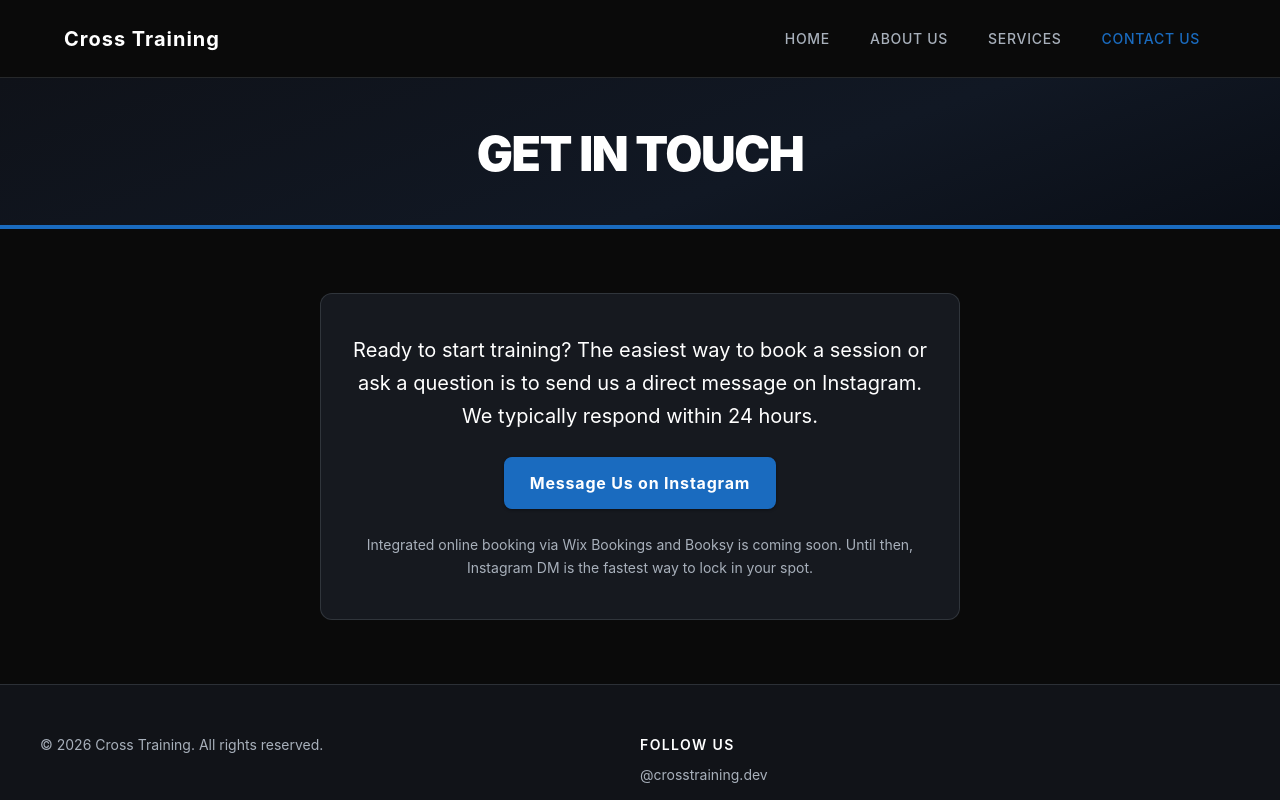
Test: App routing — integration › navigates back to the Home page when the "Home" nav link is clicked
Navigate away first
Step 1. Click the link "Services" → (1025, 38), box [988,30,1062,47]
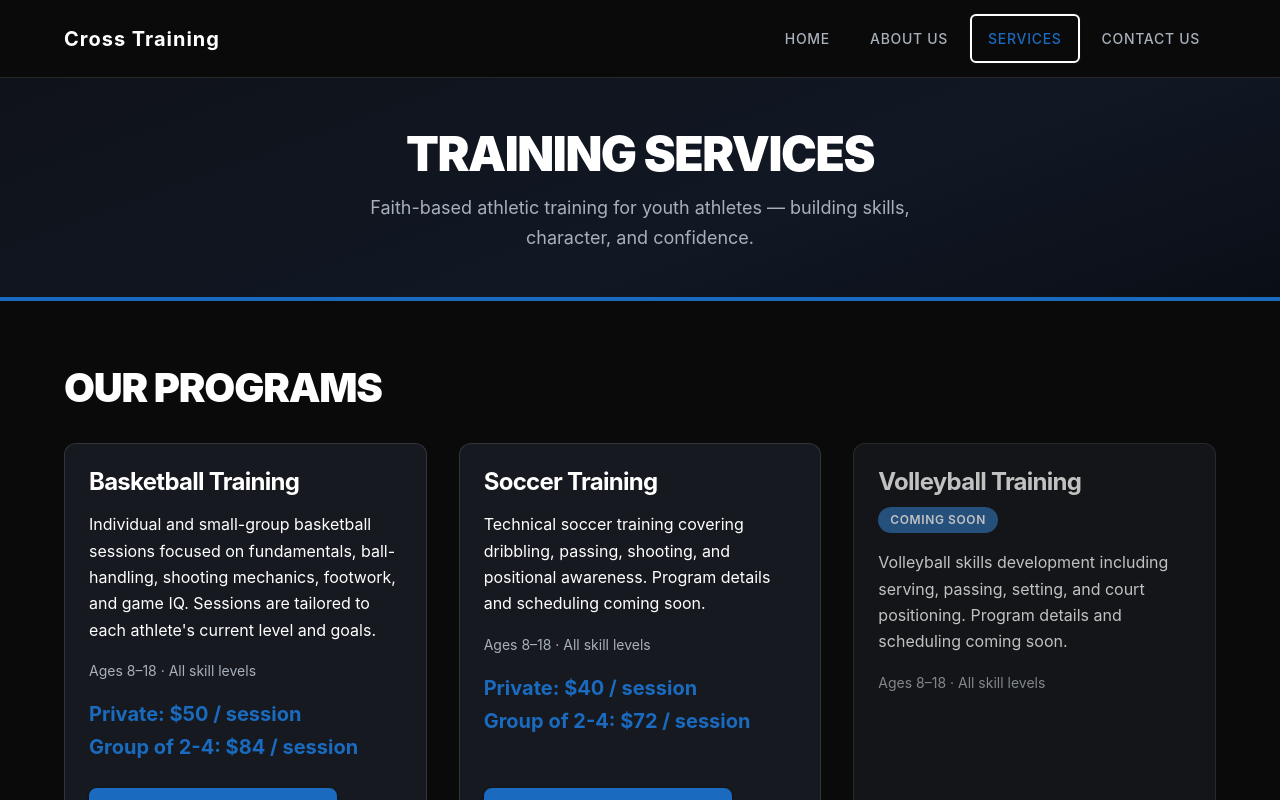
Now the heading "Training Services" is shown, box [406,124,874,183]
Navigate back home
Step 2. Click the link "Home" → (807, 38), box [785,30,830,47]
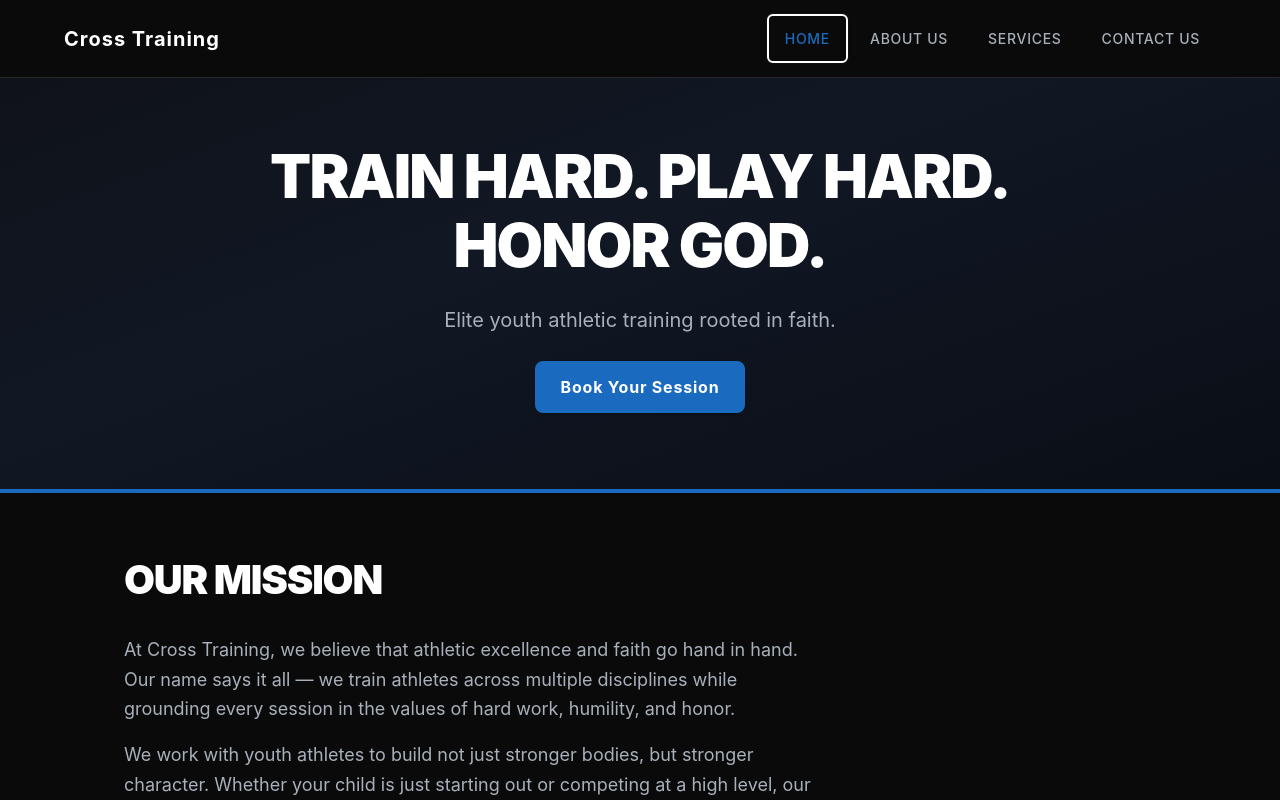
Now the heading "Train Hard. Play Hard. Honor God." is shown, box [260,142,1020,280]
